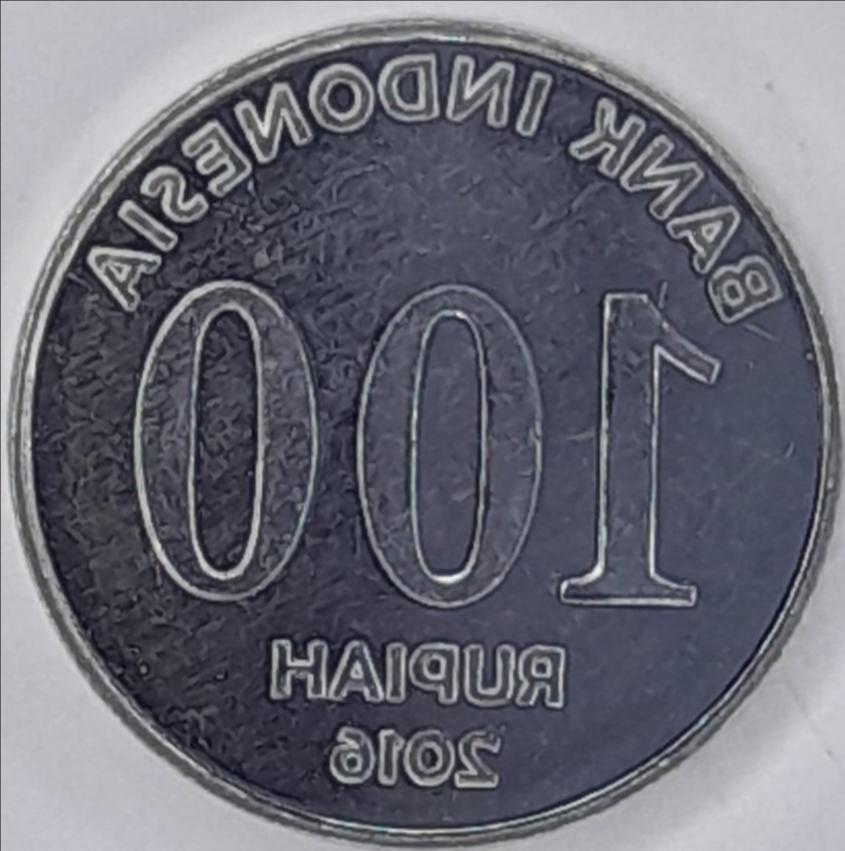coin_100_e2016: (4, 14, 844, 848)
